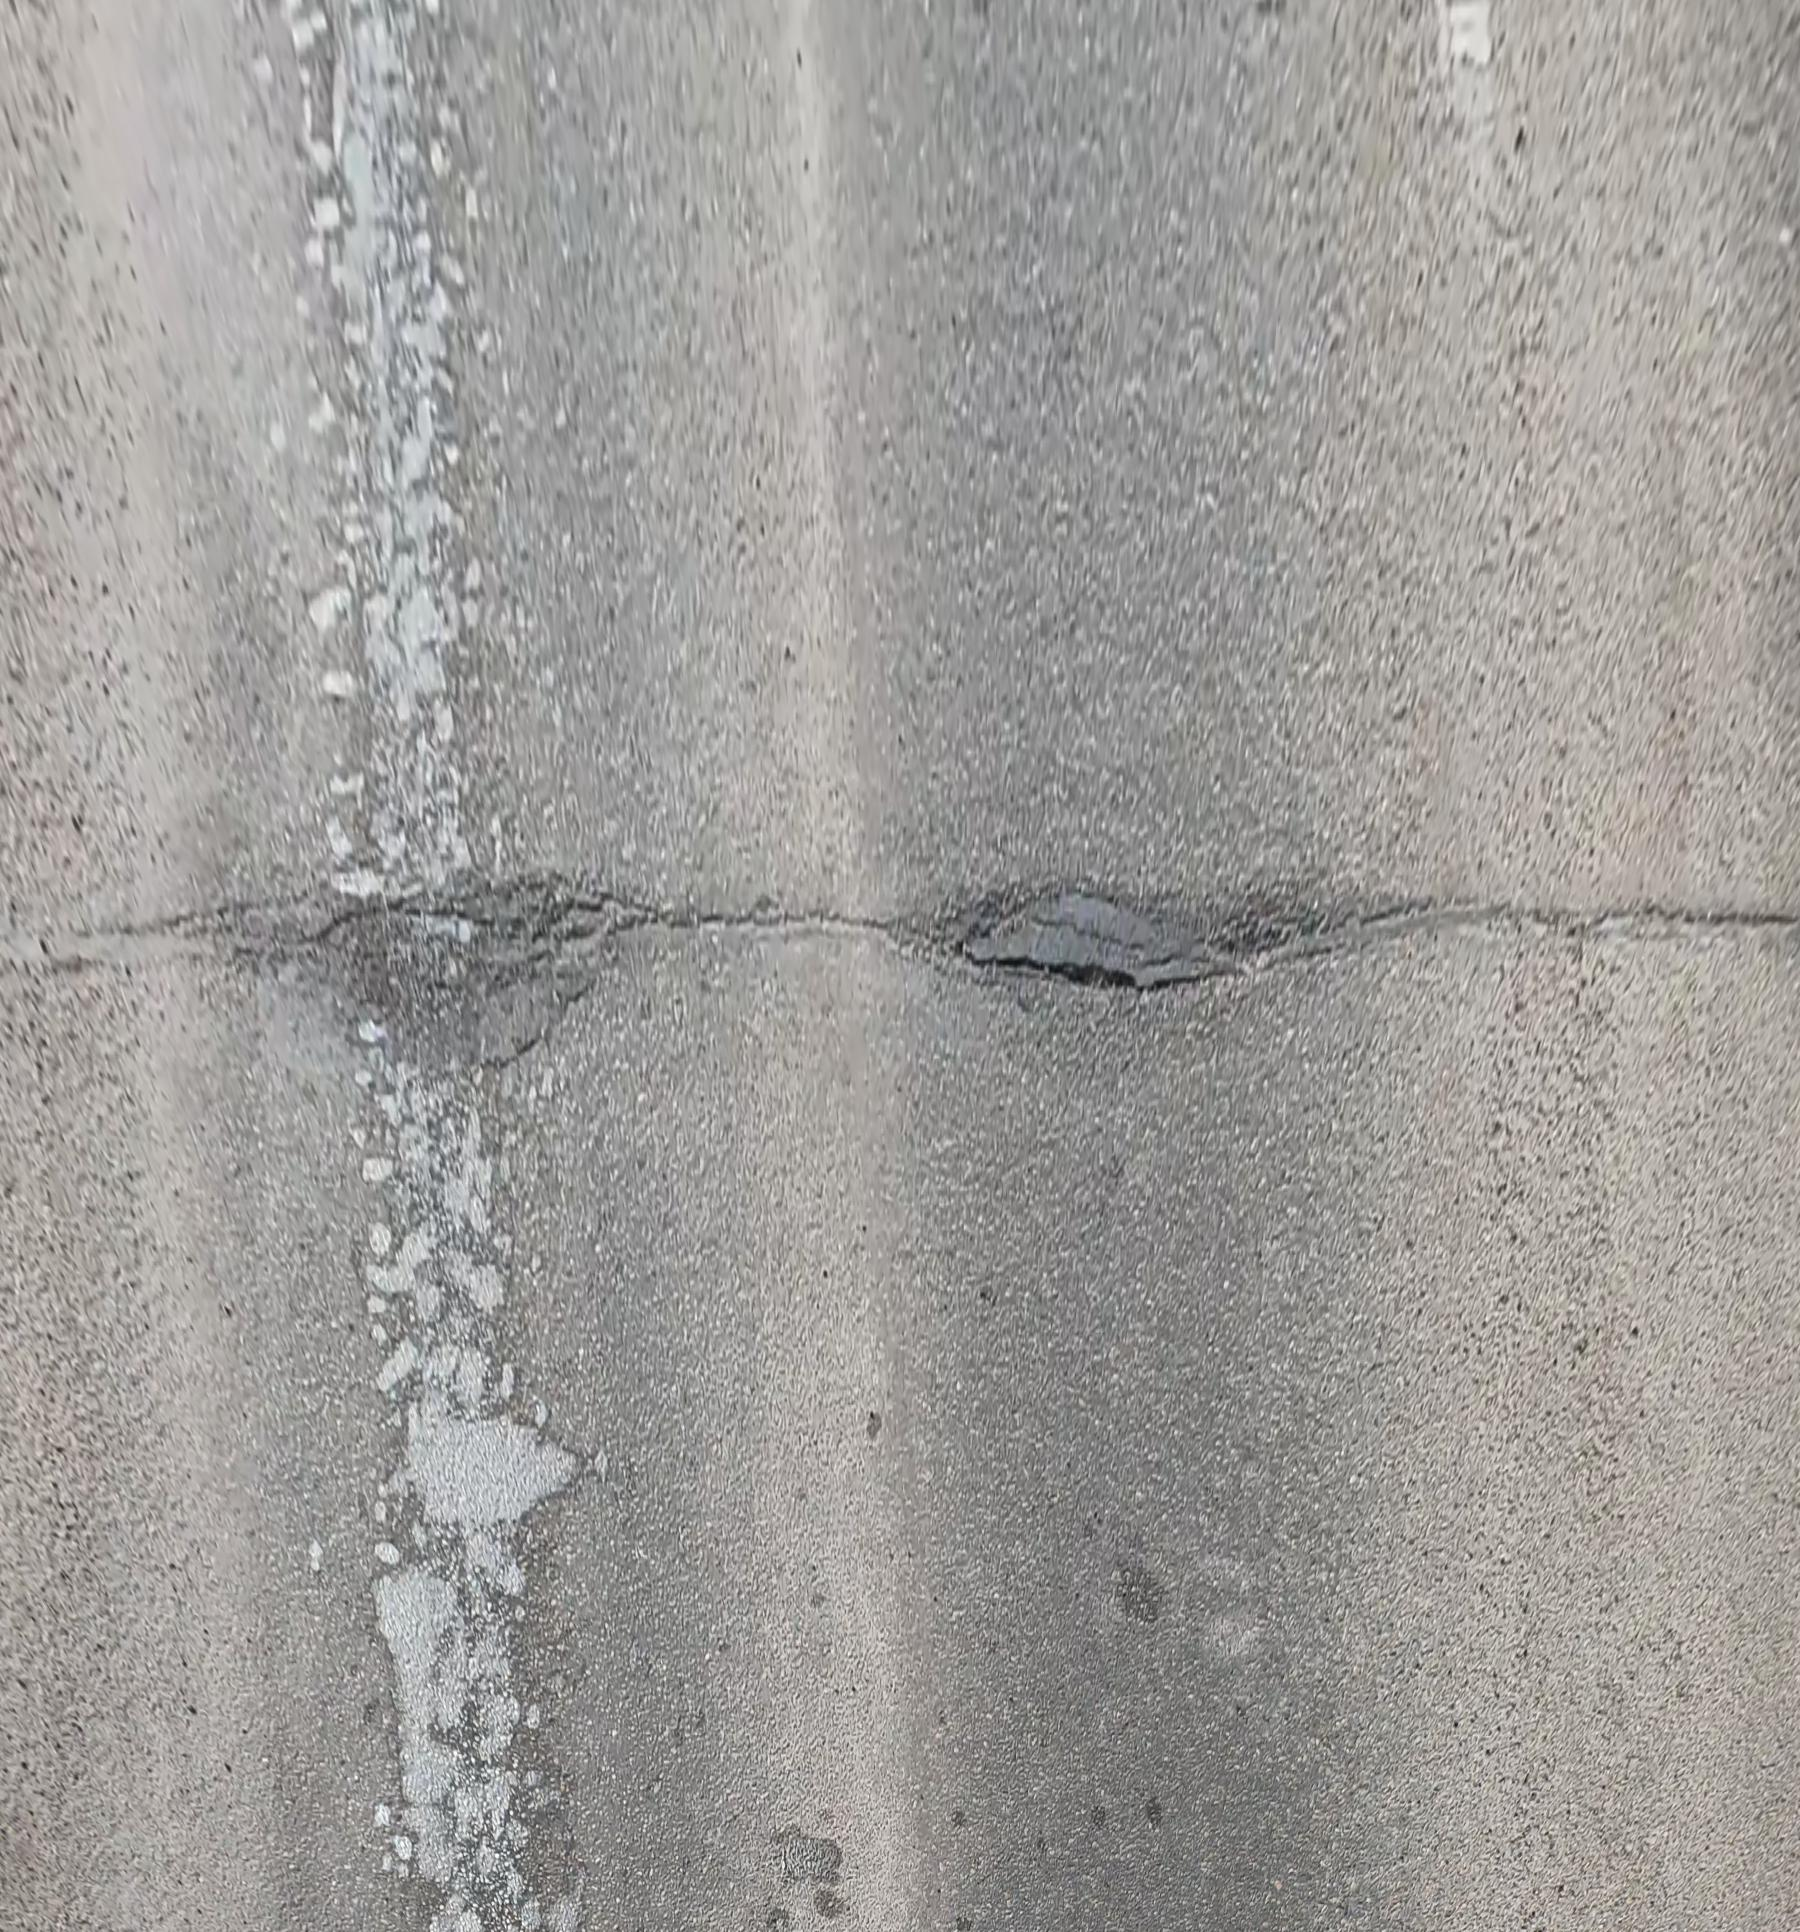pothole_patch_poor: (893, 881, 1430, 993)
